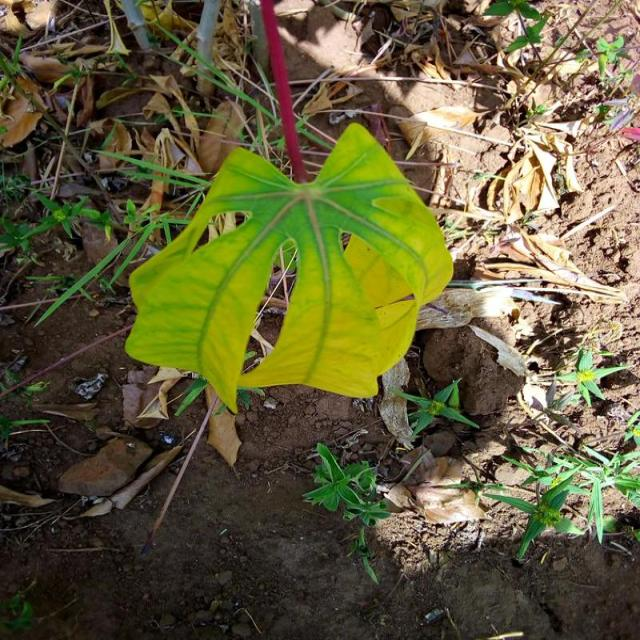cassava leaf: (123, 119, 454, 416)
